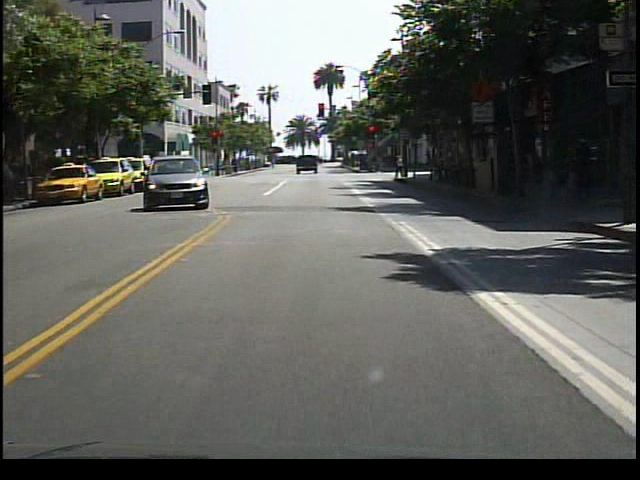person: (393, 151, 408, 179)
